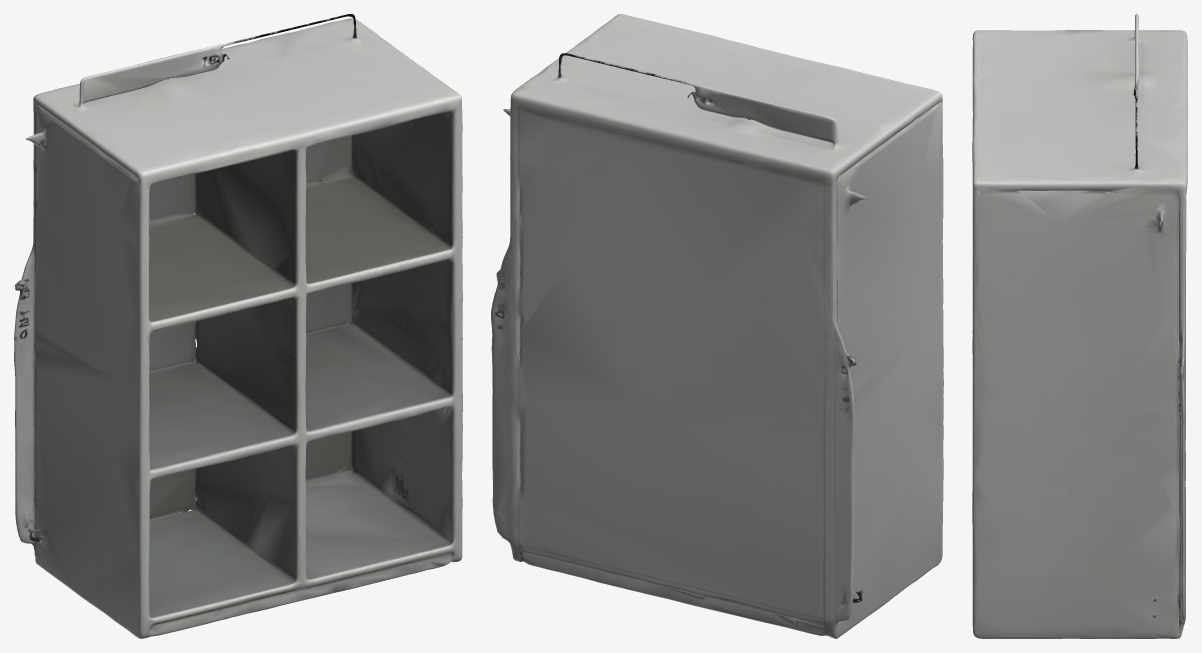
Rendered from shelf.glb.
3 views of the same model, side by side, from view 1: azimuth 30°, elevation 25°; view 2: azimuth 150°, elevation 25°; view 3: azimuth 270°, elevation 25° (orthographic). The views are drawn at different scales.
Parts seen in each view (by area): view 1: tripo_node_bb717b25; view 2: tripo_node_bb717b25; view 3: tripo_node_bb717b25.
Part boxes in pixels (x1,y1,x2,y2): tripo_node_bb717b25: [14, 14, 462, 638]; tripo_node_bb717b25: [491, 14, 943, 638]; tripo_node_bb717b25: [972, 14, 1187, 638].
Size of the model in its own units: 74.6 by 97.92 by 39.39.
1 material, 1 textured.
